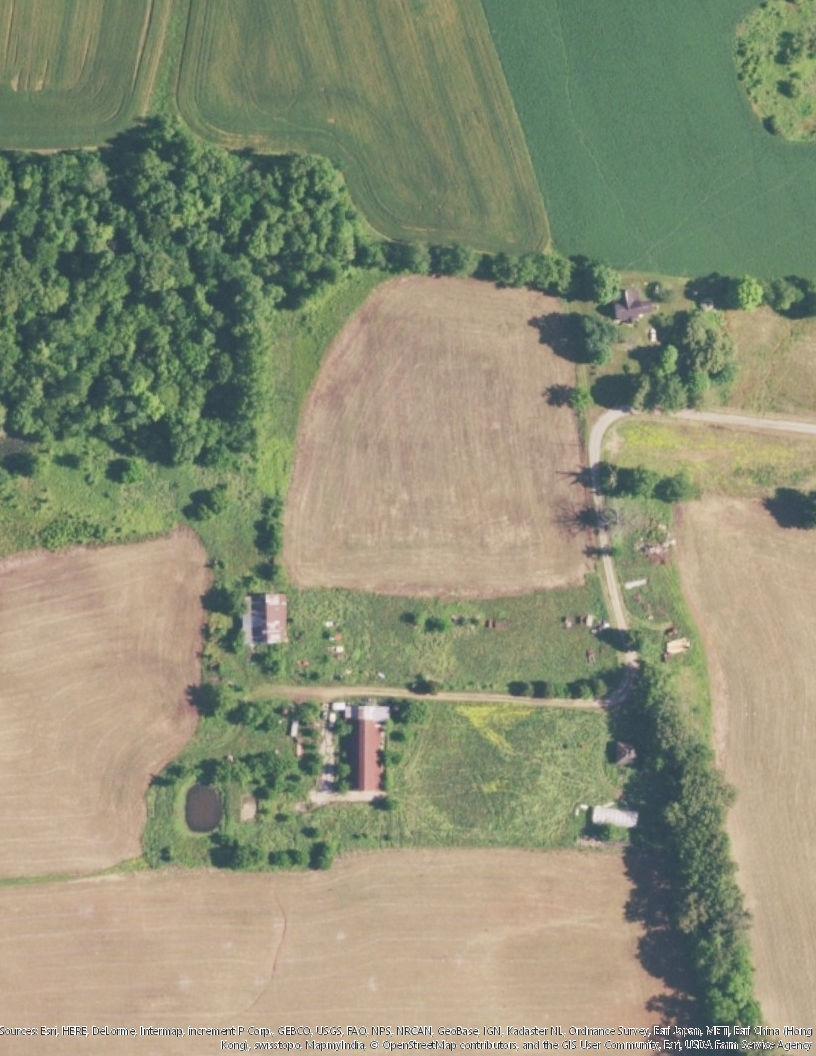cafo: (334, 699, 403, 796), (232, 586, 295, 649)
